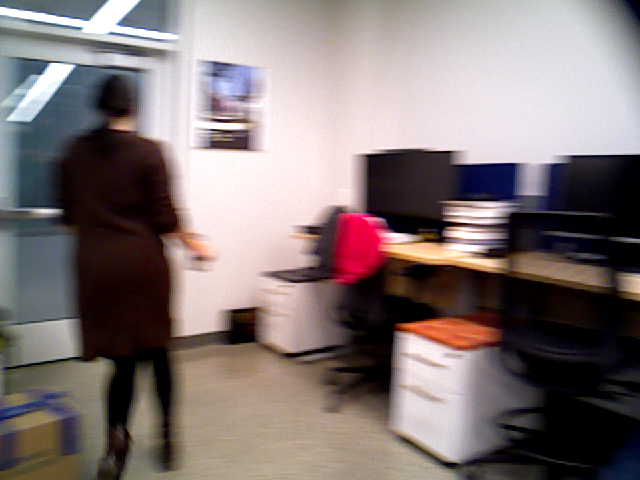painting3: (193, 58, 272, 154)
